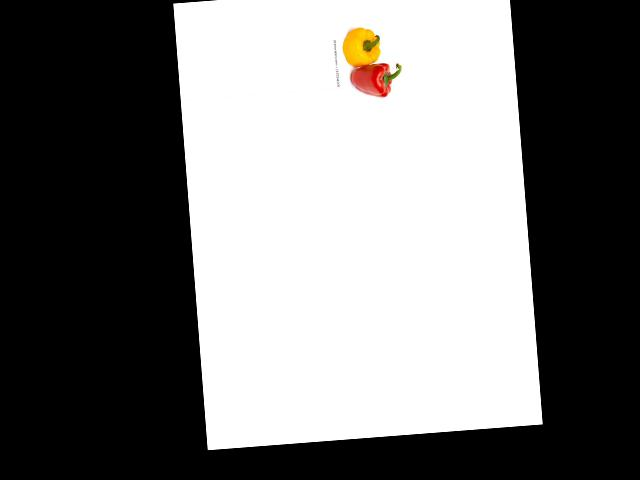bell_pepper: (337, 24, 385, 69)
